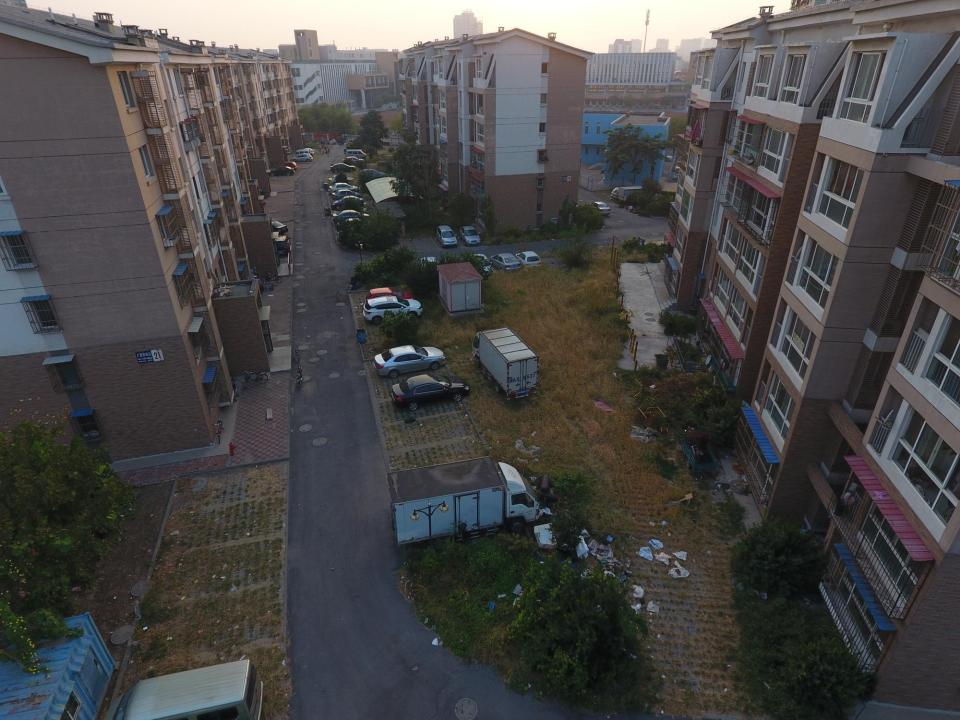car: (389, 372, 470, 412), (370, 343, 446, 380), (362, 295, 423, 325), (364, 287, 414, 306), (336, 224, 378, 242), (489, 253, 522, 273), (466, 252, 494, 274), (335, 217, 371, 232), (330, 195, 364, 210), (332, 210, 370, 223), (515, 251, 542, 269), (420, 256, 442, 277), (459, 225, 481, 246), (270, 235, 292, 255), (260, 221, 288, 235), (587, 201, 612, 216), (330, 189, 362, 200), (327, 183, 359, 194), (358, 169, 387, 179), (267, 166, 295, 176), (328, 174, 354, 184), (330, 163, 356, 173), (291, 153, 313, 162), (276, 162, 298, 170), (343, 156, 364, 164), (303, 148, 314, 156)
truck: (386, 455, 541, 555), (472, 326, 540, 401)
van: (105, 658, 266, 719), (436, 225, 458, 248), (610, 186, 635, 200), (346, 149, 366, 159), (292, 149, 310, 159)
